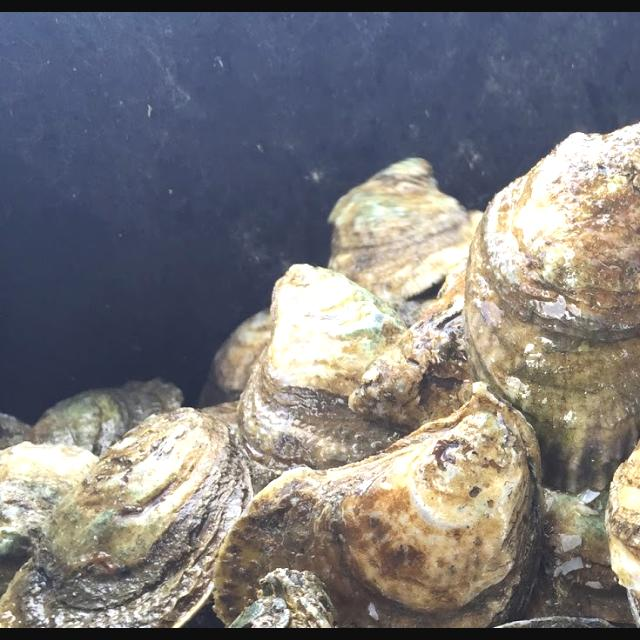Oyster-Closed: (213, 394, 542, 628), (464, 124, 640, 495), (0, 406, 254, 628), (239, 265, 423, 469), (328, 158, 470, 303), (347, 268, 470, 431), (523, 492, 633, 625), (0, 443, 99, 561), (34, 378, 185, 454), (199, 403, 284, 496), (208, 309, 269, 401), (605, 447, 640, 595), (495, 616, 613, 628), (0, 416, 33, 451)
